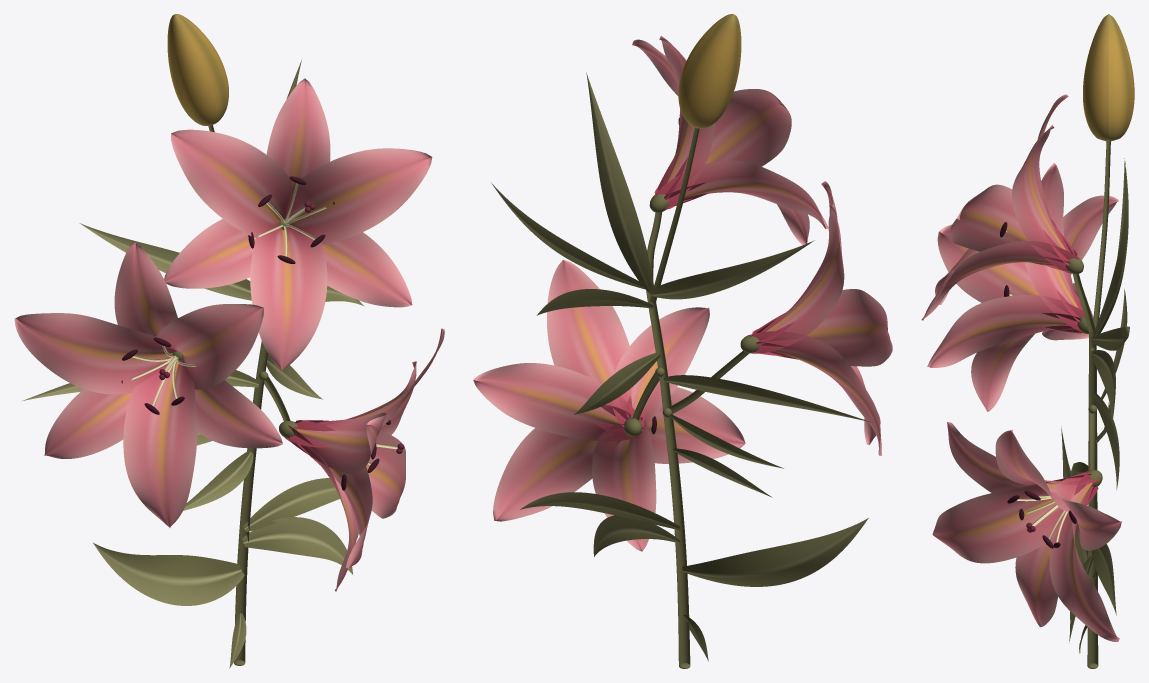
The model's file is lily.glb.
3 renders of one model, left to right at view 1: azimuth 30°, elevation 25°; view 2: azimuth 150°, elevation 25°; view 3: azimuth 270°, elevation 25°, orthographic. The views are drawn at different scales.
Parts seen in each view (by area): view 1: flower_left_tepal4, flower_top_tepal6, flower_left_tepal2, flower_top_tepal2, flower_top_tepal4, flower_left_tepal6, leaf_lower_left, bud, flower_top_tepal5, flower_top_tepal1, flower_top_tepal3, flower_left_tepal3 (+15 smaller); view 2: flower_right_tepal1, flower_right_tepal2, flower_right_tepal6, flower_top_tepal2, bud, leaf_lower_left, flower_right_tepal3, flower_left_tepal2, flower_right_tepal5, leaf_top, flower_top_tepal3, flower_left_tepal1 (+16 smaller); view 3: flower_right_tepal4, flower_left_tepal5, bud, flower_right_tepal6, flower_top_tepal6, flower_top_tepal1, flower_left_tepal6, flower_left_tepal1, flower_left_tepal4, flower_top_tepal5, flower_right_tepal5, flower_right_tepal3 (+17 smaller).
Boxes of the visible parts, box(x1,y1,x2,y2) form: flower_left_tepal4: box(123, 358, 197, 527); flower_top_tepal6: box(285, 148, 432, 244); flower_left_tepal2: box(14, 313, 176, 394); flower_top_tepal2: box(171, 129, 293, 237); flower_top_tepal4: box(250, 227, 327, 370); flower_left_tepal6: box(156, 304, 263, 389); leaf_lower_left: box(93, 543, 244, 605); bud: box(167, 14, 228, 125); flower_top_tepal5: box(322, 232, 412, 307); flower_top_tepal1: box(266, 78, 330, 184); flower_top_tepal3: box(164, 219, 255, 288); flower_left_tepal3: box(44, 389, 131, 458); flower_right_tepal1: box(473, 363, 641, 441); flower_right_tepal2: box(547, 259, 644, 436); flower_right_tepal6: box(493, 405, 643, 521); flower_top_tepal2: box(657, 89, 791, 205); bud: box(678, 14, 741, 128); leaf_lower_left: box(682, 518, 868, 586); flower_right_tepal3: box(611, 307, 709, 437); flower_left_tepal2: box(755, 289, 892, 366); flower_right_tepal5: box(592, 417, 656, 551); leaf_top: box(586, 72, 653, 292); flower_top_tepal3: box(653, 160, 828, 228); flower_left_tepal1: box(752, 204, 844, 353); flower_right_tepal4: box(932, 474, 1098, 563); flower_left_tepal5: box(927, 295, 1084, 367); bud: box(1083, 14, 1134, 141); flower_right_tepal6: box(1049, 472, 1119, 641); flower_top_tepal6: box(950, 184, 1074, 265); flower_top_tepal1: box(1012, 125, 1070, 273); flower_left_tepal6: box(937, 224, 1083, 332); flower_left_tepal1: box(1024, 163, 1081, 331); flower_left_tepal4: box(971, 313, 1080, 411); flower_top_tepal5: box(921, 241, 1079, 320); flower_right_tepal5: box(1015, 471, 1095, 627); flower_right_tepal3: box(947, 422, 1100, 492).
Size of the model in its own units: 0.2796 by 0.4357 by 0.1342.
